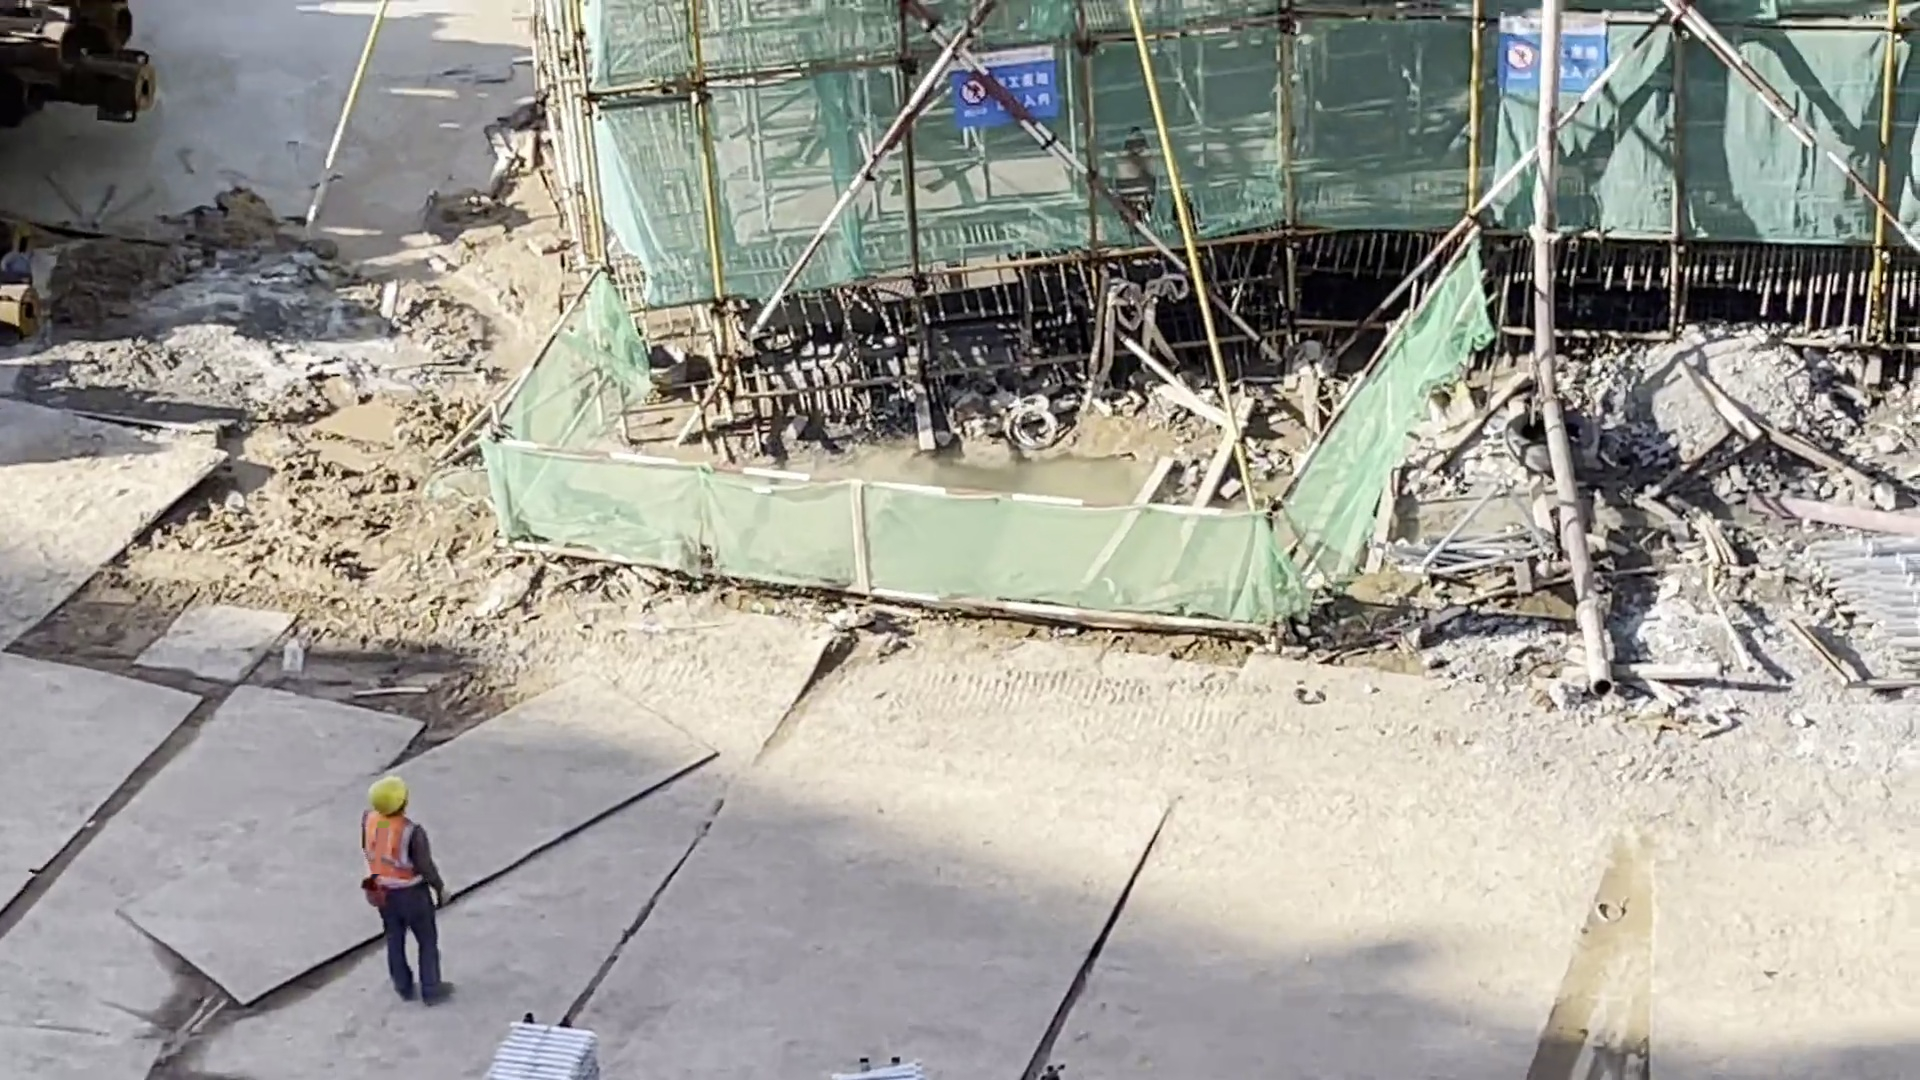helmet: (363, 769, 418, 819)
person: (349, 765, 477, 1016)
scaffold: (466, 1006, 617, 1080)
slogan: (1444, 10, 1629, 113), (933, 34, 1080, 131)
vest: (364, 813, 426, 901)
